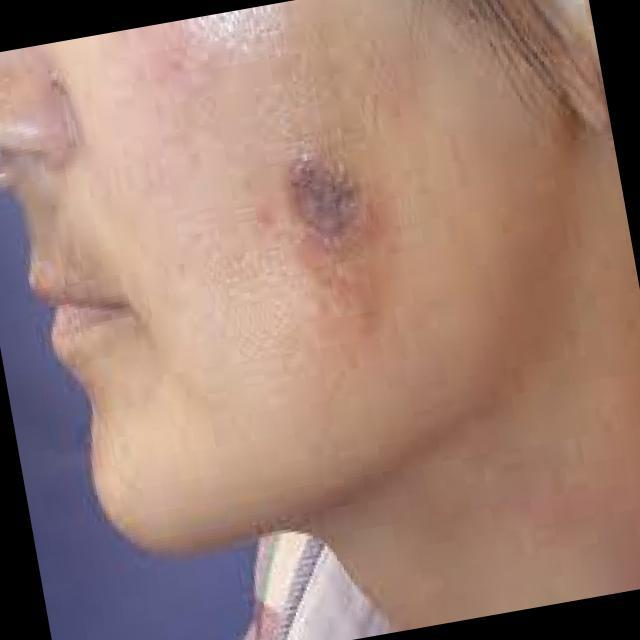Eczema: (292, 154, 402, 302)
